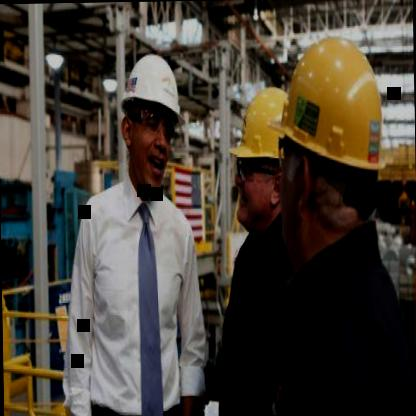helmet: (270, 31, 384, 262), (228, 77, 296, 240), (115, 51, 188, 202)
